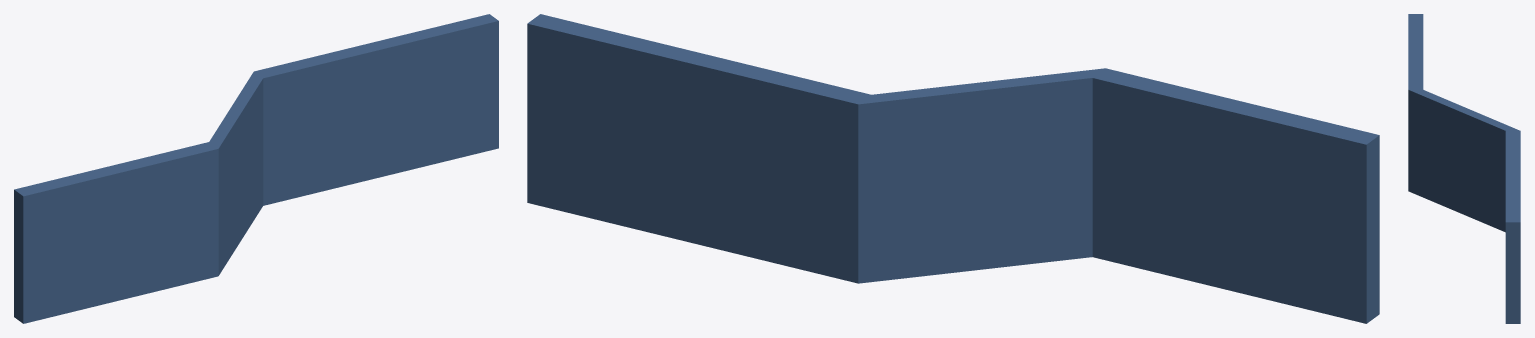
The model's file is Structure_Wall_FrontWall_TopFloor_fbx_v01.fbx.
3 views of the same model, side by side, from view 1: azimuth 30°, elevation 25°; view 2: azimuth 150°, elevation 25°; view 3: azimuth 270°, elevation 25° (orthographic). The views are drawn at different scales.
Visible parts, largest first — view 1: Wall_Front_TopFloor; view 2: Wall_Front_TopFloor; view 3: Wall_Front_TopFloor.
Part boxes in pixels (left/top/right/bottom): Wall_Front_TopFloor: left=14, top=14, right=498, bottom=323; Wall_Front_TopFloor: left=527, top=14, right=1379, bottom=323; Wall_Front_TopFloor: left=1408, top=14, right=1520, bottom=323.
Bounding box in the file's own units: 3300 × 750 × 750.
